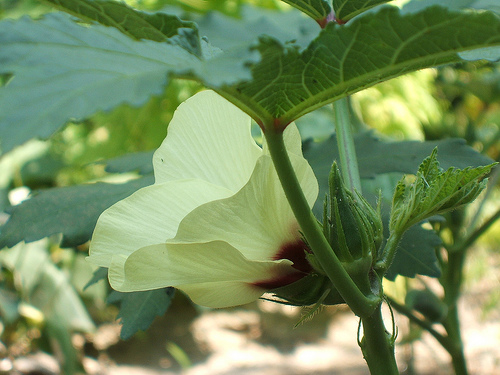okra: (314, 161, 385, 289)
